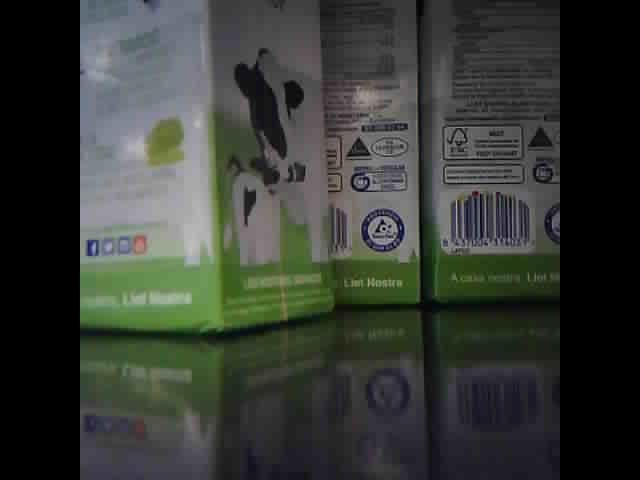leche: (84, 5, 324, 333), (422, 4, 555, 302), (325, 3, 415, 309)
